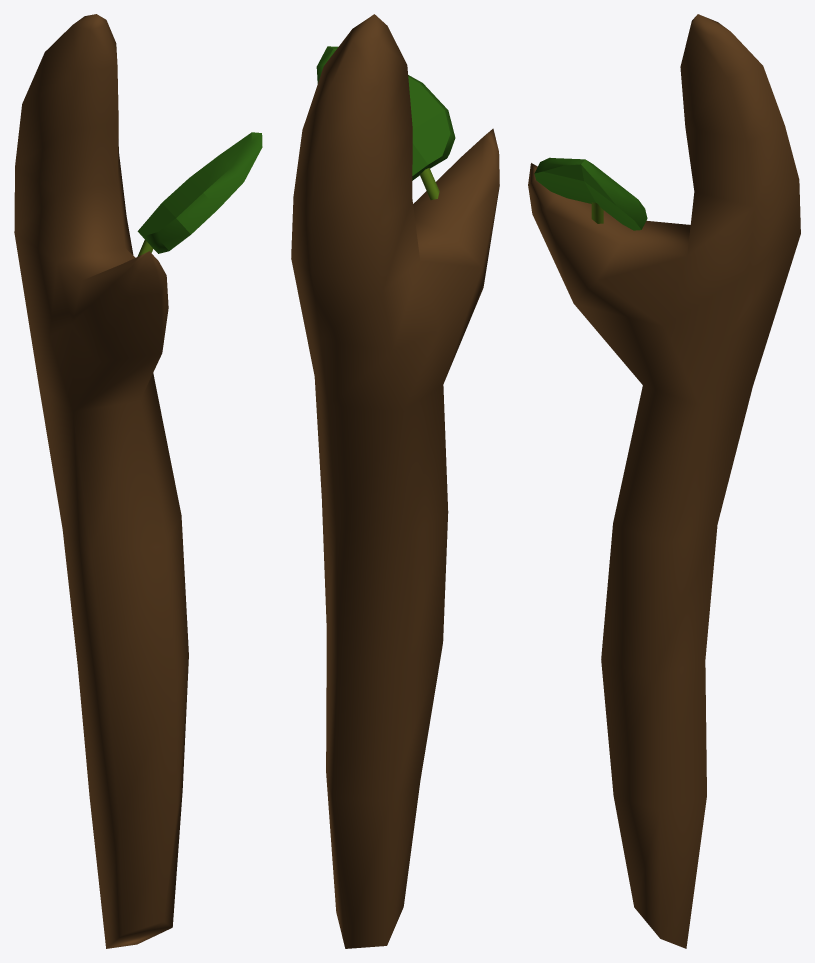
File: Ouch Stick.fbx
The picture shows the model from 3 angles, left to right: view 1: azimuth 30°, elevation 25°; view 2: azimuth 150°, elevation 25°; view 3: azimuth 270°, elevation 25°; orthographic projection. The views are drawn at different scales.
Visible parts, largest first — view 1: pCylinder1, pCube1; view 2: pCylinder1, pCube1; view 3: pCylinder1, pCube1.
Part boxes in pixels (box(x1,y1,x2,y2)): pCylinder1: box(14, 14, 188, 948); pCube1: box(137, 132, 262, 253); pCylinder1: box(291, 14, 499, 948); pCube1: box(316, 46, 455, 180); pCylinder1: box(528, 14, 800, 948); pCube1: box(534, 157, 647, 230).
Bounding box in the file's own units: 6.22 × 31.81 × 8.57.
